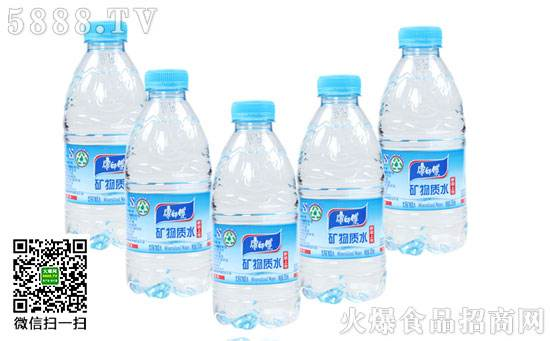amwater: (377, 23, 480, 257), (54, 13, 150, 259), (291, 68, 388, 309), (210, 92, 306, 326), (133, 67, 215, 302)
